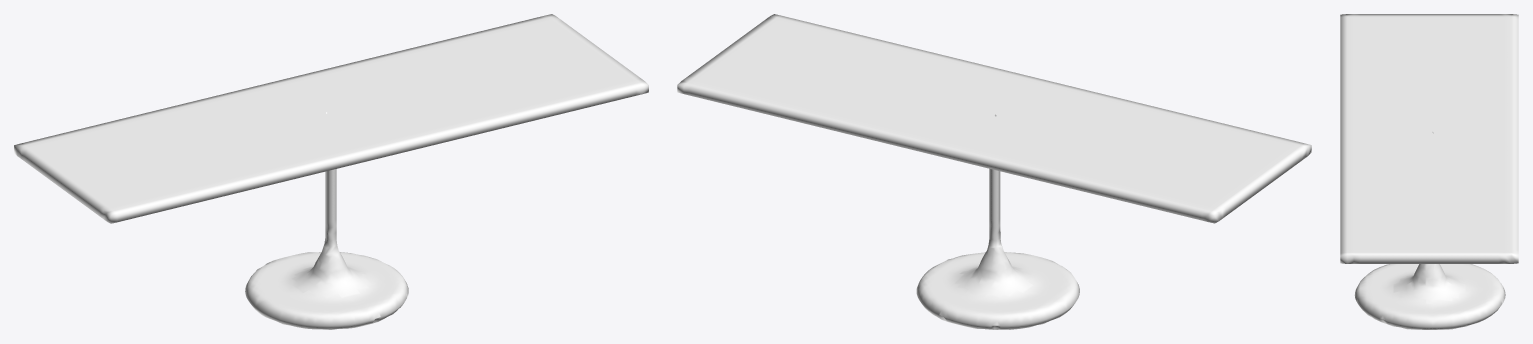
File: long_table.obj
3 renders of one model, left to right at view 1: azimuth 30°, elevation 25°; view 2: azimuth 150°, elevation 25°; view 3: azimuth 270°, elevation 25°, orthographic. The views are drawn at different scales.
Parts seen in each view (by area): view 1: model_0; view 2: model_0; view 3: model_0.
Boxes of the visible parts, box(x1,y1,x2,y2) form: model_0: box(14, 14, 648, 329); model_0: box(677, 14, 1311, 329); model_0: box(1340, 14, 1518, 329).
Bounding box in the file's own units: 949 × 321 × 296.
